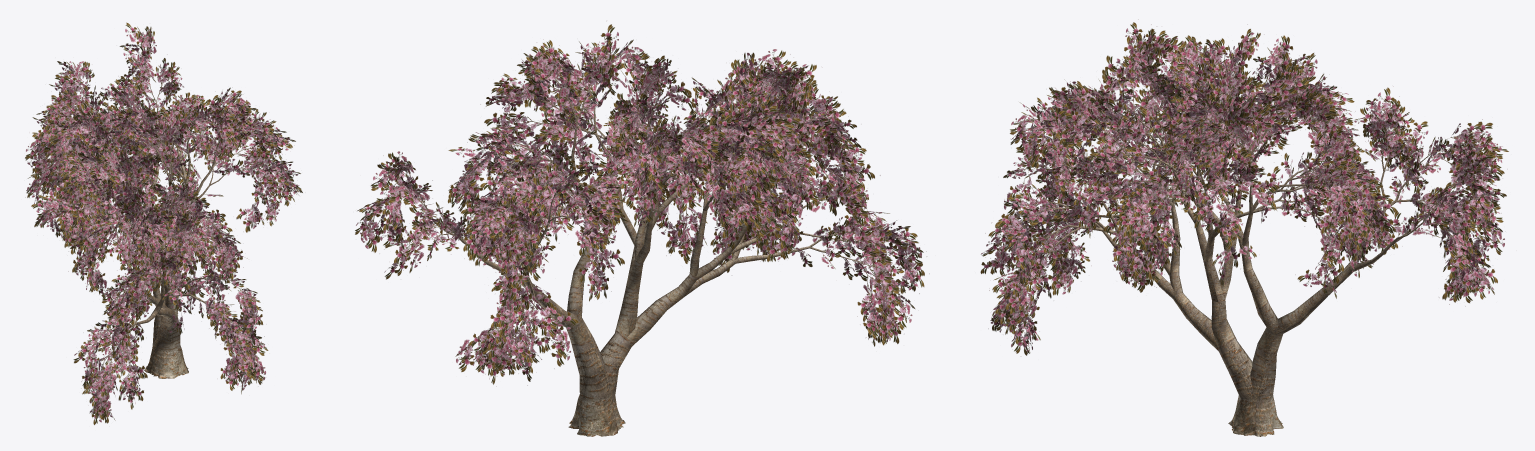
File: sakura.glb
The picture shows the model from 3 angles, left to right: view 1: azimuth 30°, elevation 25°; view 2: azimuth 150°, elevation 25°; view 3: azimuth 270°, elevation 25°; orthographic projection. The views are drawn at different scales.
Visible parts, largest first — view 1: Tree; view 2: Tree; view 3: Tree.
Boxes of the visible parts, <box> form: Tree: <box>25,22,302,424</box>; Tree: <box>355,21,929,436</box>; Tree: <box>980,19,1508,436</box>.
Bounding box in the file's own units: 2.11 × 2.05 × 2.75.
2 materials, 2 textured.
